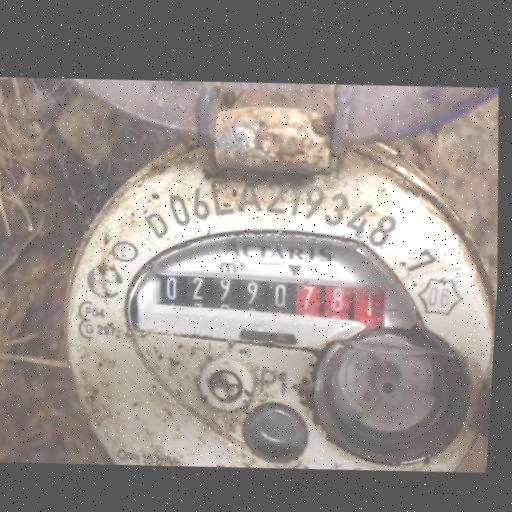0: (267, 280, 293, 316), (161, 274, 183, 307)
1: (350, 286, 388, 332)
2: (186, 275, 210, 309)
7: (293, 283, 322, 319)
8: (321, 284, 352, 322)
9: (212, 275, 238, 310), (240, 279, 266, 312)
border_water_meter_number: (147, 254, 392, 343)
